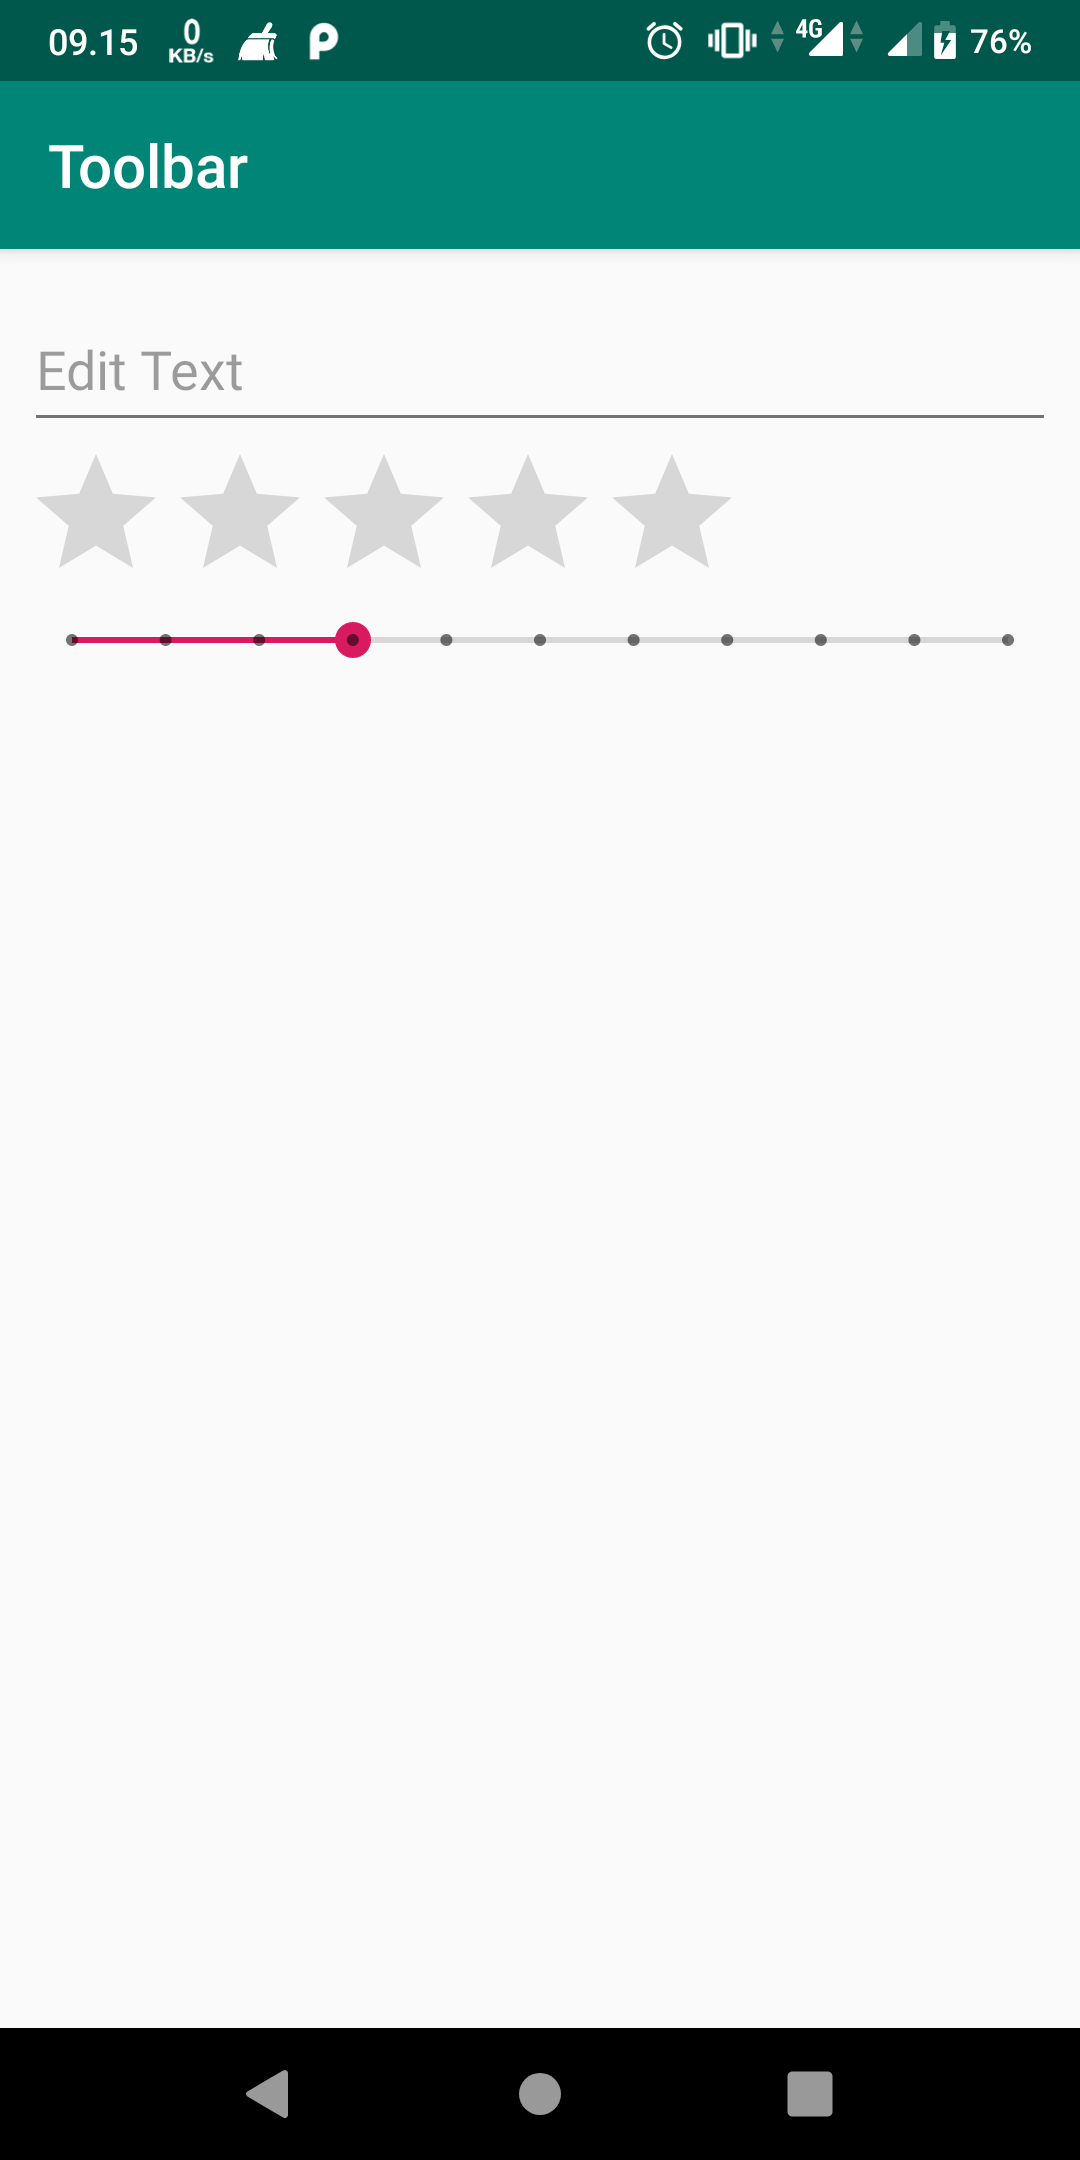editText: (28, 337, 1063, 438)
ratingBar: (44, 450, 744, 580)
slider: (56, 614, 1022, 661)
toolbar: (3, 80, 1080, 248)
